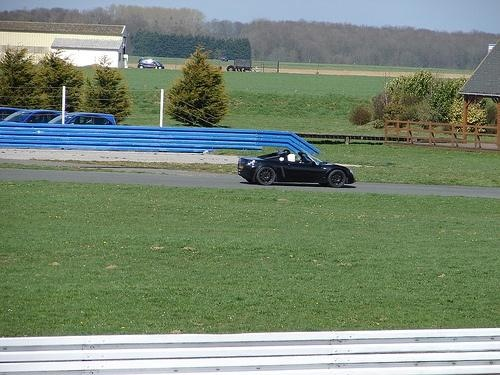car: (237, 147, 358, 191), (3, 109, 64, 122), (47, 114, 118, 125), (138, 56, 166, 70)
